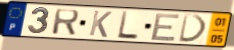3: (27, 6, 51, 35)
D: (177, 13, 209, 44)
E: (149, 13, 182, 42)
K: (87, 9, 114, 39)
L: (116, 10, 140, 41)
R: (51, 8, 81, 37)
